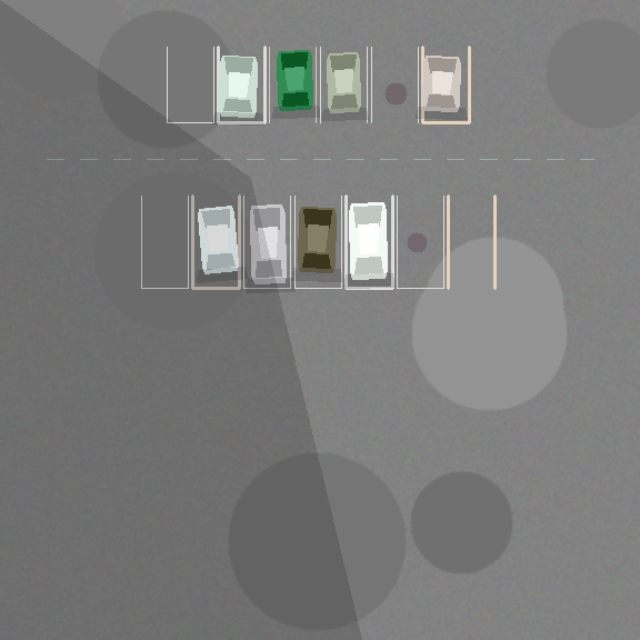space-empty: (141, 196, 188, 288), (397, 196, 443, 288), (448, 196, 494, 288), (371, 47, 418, 122), (167, 47, 213, 122)
space-occupied: (192, 196, 239, 288), (243, 196, 290, 288), (294, 196, 341, 288), (346, 196, 392, 288), (269, 47, 316, 122), (320, 47, 367, 122), (422, 47, 469, 122), (218, 47, 264, 122)
